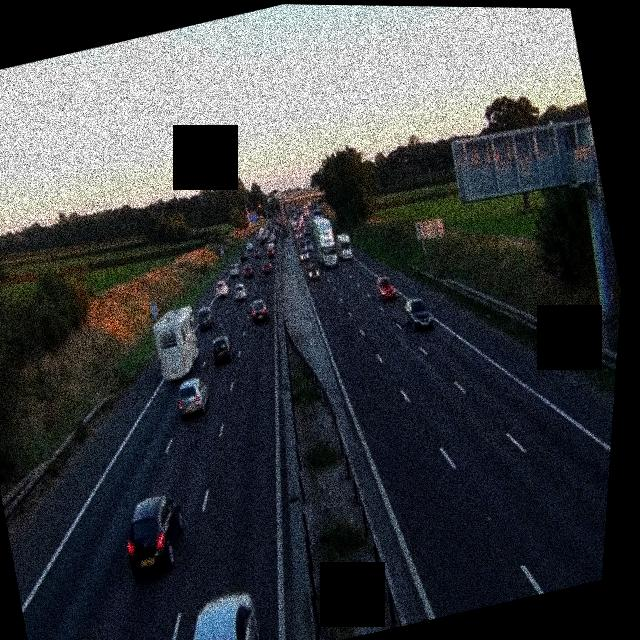car: (114, 491, 195, 578), (172, 587, 268, 640), (171, 373, 214, 419), (400, 293, 436, 332), (208, 332, 236, 365), (246, 295, 270, 323), (193, 303, 217, 331), (374, 274, 398, 302), (305, 257, 322, 280), (212, 279, 229, 299), (231, 281, 248, 299), (240, 261, 255, 279), (297, 245, 312, 263), (257, 259, 272, 275), (227, 256, 240, 272), (293, 231, 305, 245)
truck: (145, 301, 210, 383), (306, 210, 342, 267), (333, 230, 355, 261)
